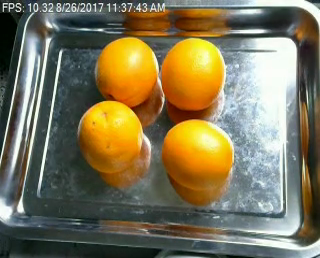Orange: (161, 116, 233, 188), (75, 100, 142, 172), (161, 37, 225, 110), (94, 37, 158, 106)
